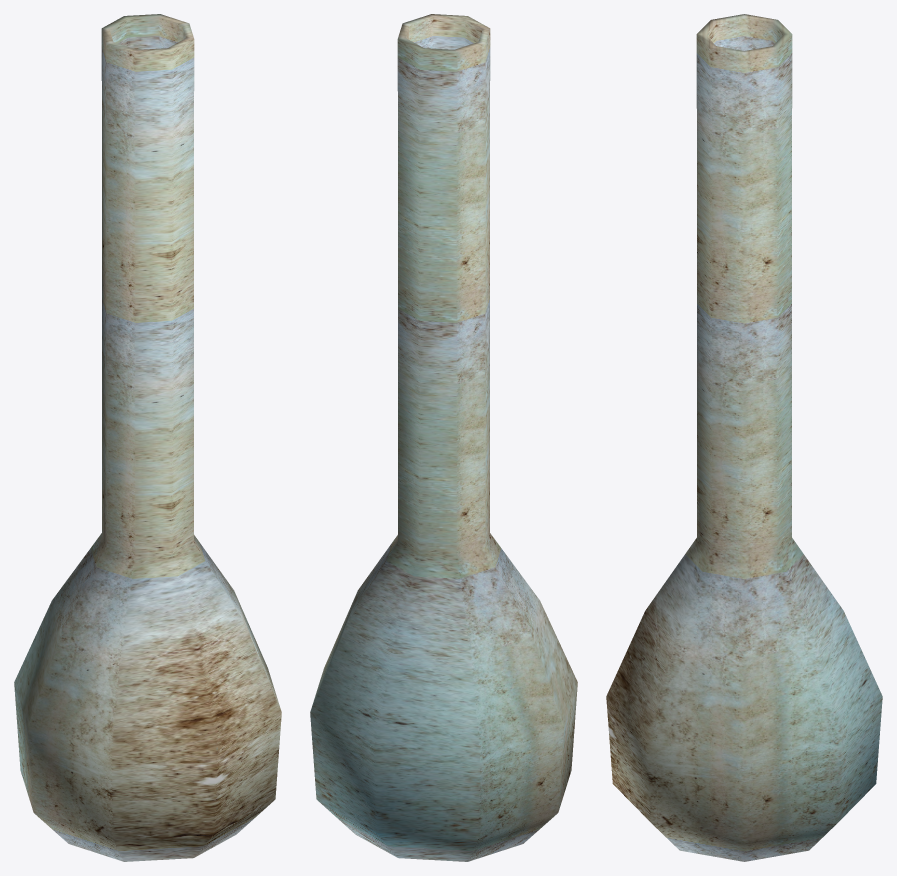
The model's file is kjeldahl_flask.FBX.
The picture shows the model from 3 angles, left to right: view 1: azimuth 30°, elevation 25°; view 2: azimuth 150°, elevation 25°; view 3: azimuth 270°, elevation 25°; orthographic projection.
Parts seen in each view (by area): view 1: kjeldahl_flask; view 2: kjeldahl_flask; view 3: kjeldahl_flask.
Boxes of the visible parts, x1,y1,x2,y2 form: kjeldahl_flask: (14,14,281,861); kjeldahl_flask: (310,14,577,861); kjeldahl_flask: (606,14,882,861).
Size of the model in its own units: 18.93 by 59.63 by 18.93.
